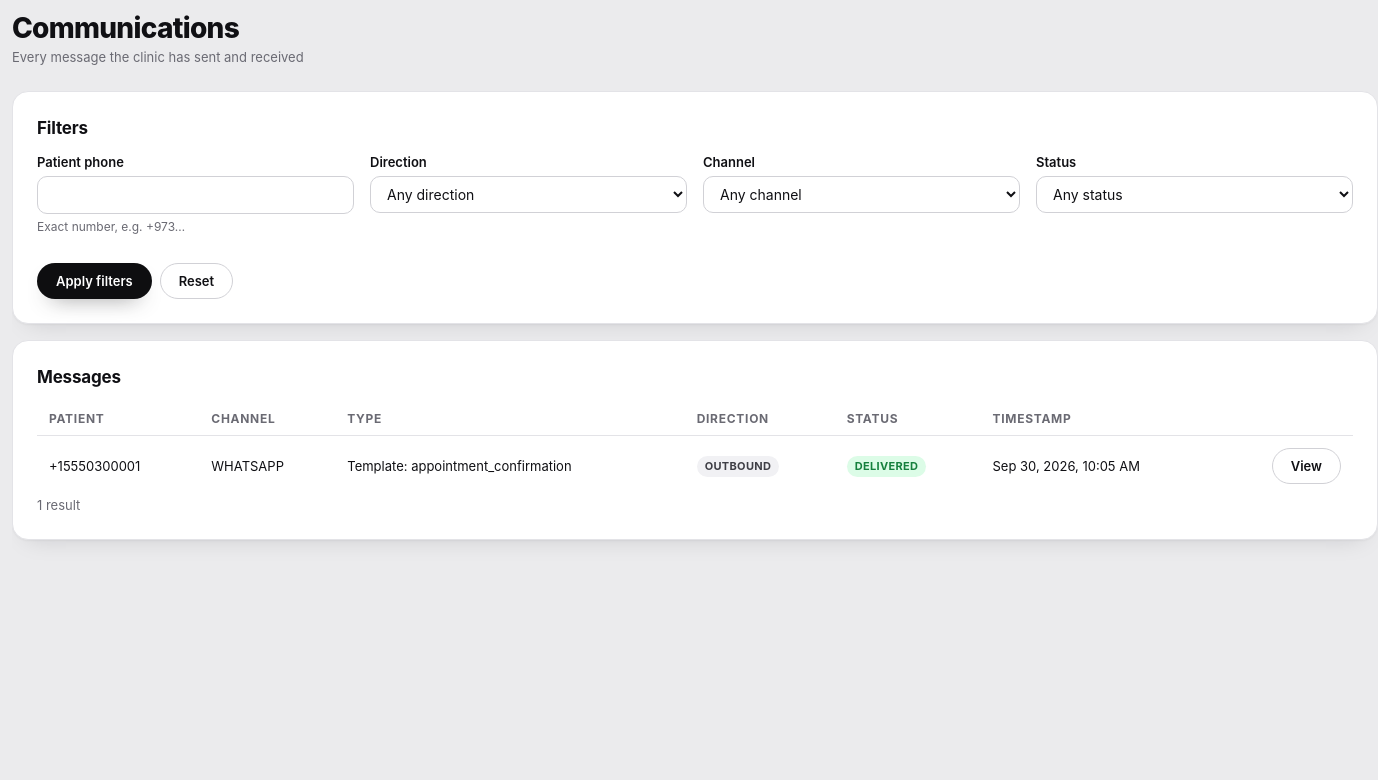
Test: CommunicationsPage › lists messages and expands a row to show the body
Check: the text "+15550300001" is shown, box x1=37 y1=436 x2=199 y2=496
Check: the text "Your appointment is confirmed." is not shown
Step 1. Click the button "View" → (1306, 466), box x1=1272 y1=448 x2=1341 y2=484
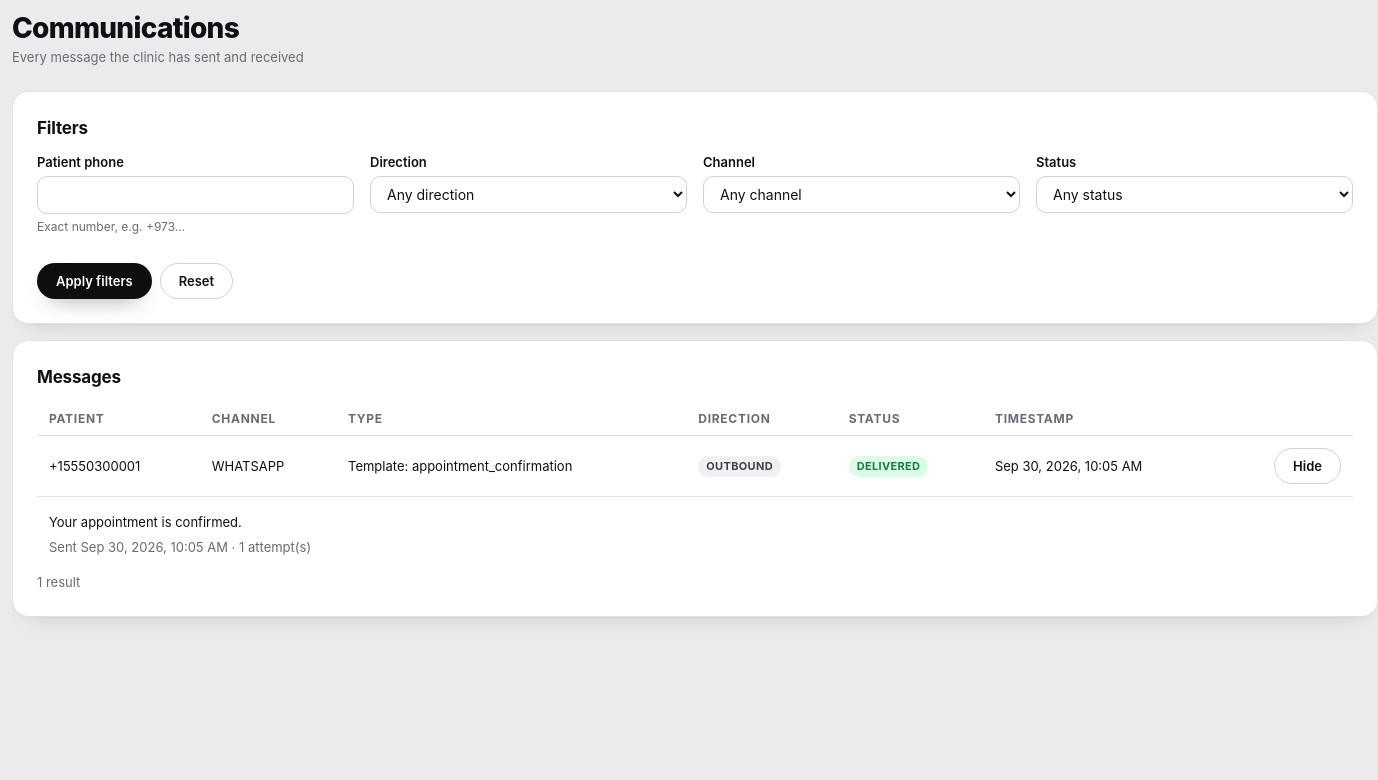
Check: the text "Your appointment is confirmed." is shown, box x1=49 y1=514 x2=242 y2=530
Check: the button "Hide" is shown, box x1=1274 y1=448 x2=1341 y2=484
